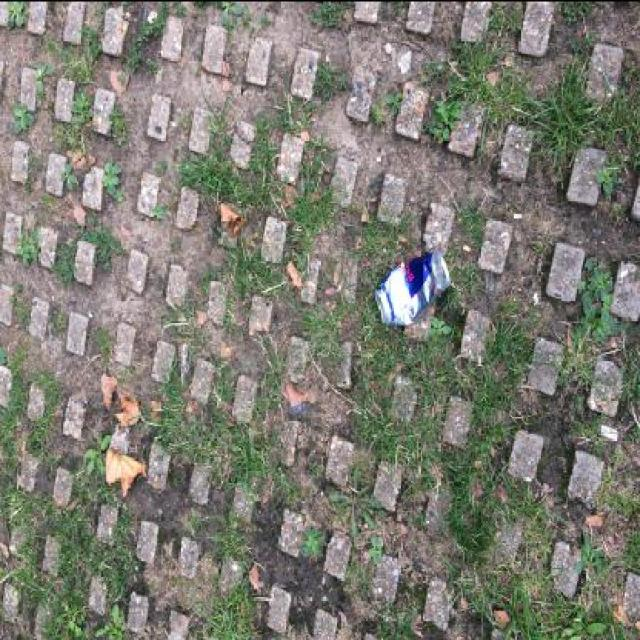metal: (374, 250, 451, 325)
